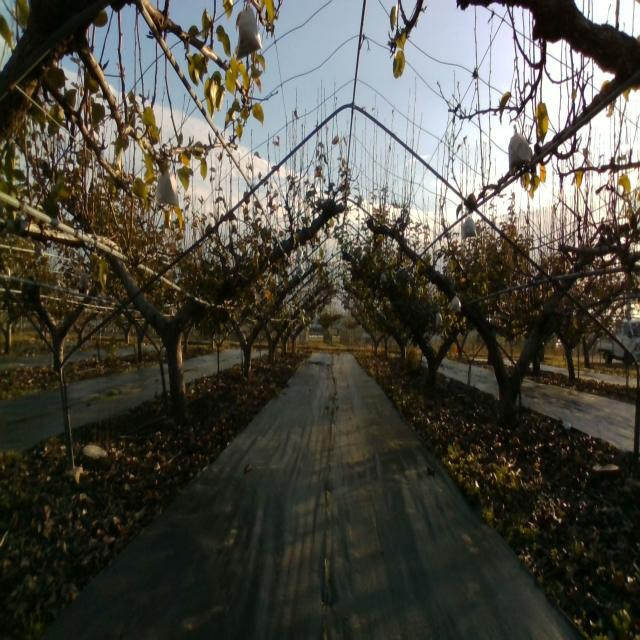pearbags: (235, 9, 262, 61), (508, 124, 532, 170), (154, 165, 179, 207), (461, 216, 477, 240), (449, 291, 462, 312)
